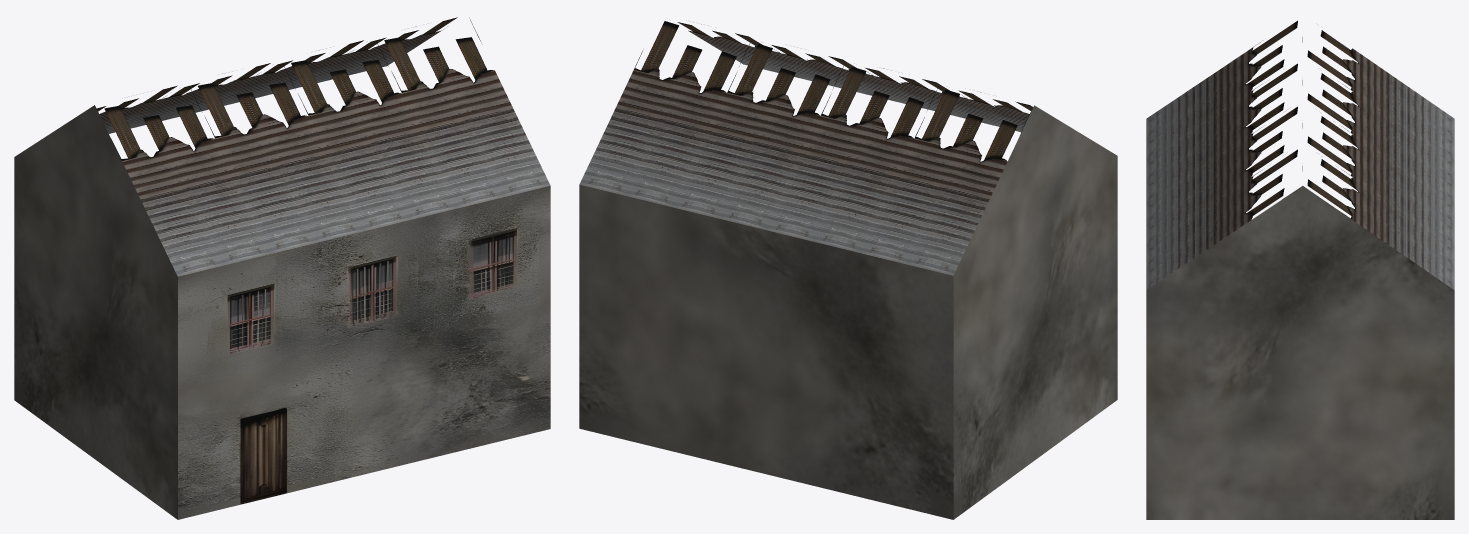
Rendered from house6.gltf.
3 views of the same model, side by side, from view 1: azimuth 30°, elevation 25°; view 2: azimuth 150°, elevation 25°; view 3: azimuth 270°, elevation 25° (orthographic). The views are drawn at different scales.
Visible parts, largest first — view 1: house6_atomic0; view 2: house6_atomic0; view 3: house6_atomic0.
Boxes of the visible parts, x1,y1,x2,y2 form: house6_atomic0: (14, 17, 550, 519); house6_atomic0: (579, 21, 1117, 519); house6_atomic0: (1146, 20, 1454, 519).
Bounding box in the file's own units: 69.59 × 63.19 × 52.87.
3 materials, 3 textured.
